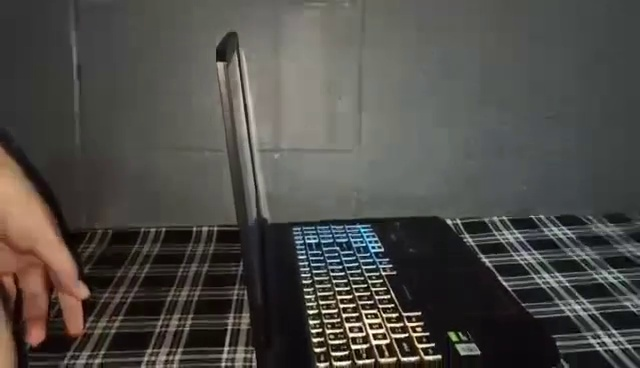laptop: (215, 28, 556, 368)
